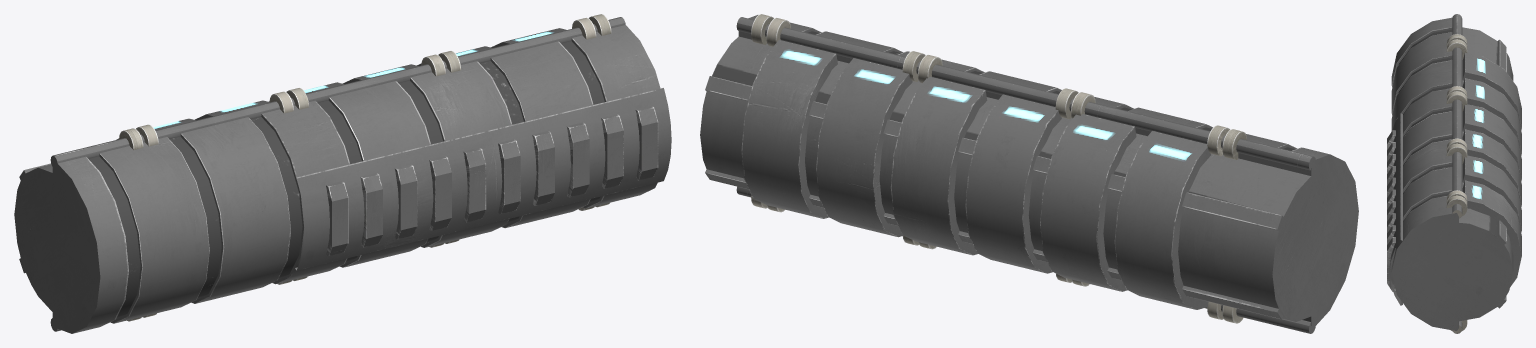
File: grip_18_r_a.glb
3 views of the same model, side by side, from view 1: azimuth 30°, elevation 25°; view 2: azimuth 150°, elevation 25°; view 3: azimuth 270°, elevation 25° (orthographic). The views are drawn at different scales.
Parts seen in each view (by area): view 1: grip_18_r_a_lod0; view 2: grip_18_r_a_lod0; view 3: grip_18_r_a_lod0.
Boxes of the visible parts, bbox=[...] form: grip_18_r_a_lod0: bbox=[14, 14, 671, 333]; grip_18_r_a_lod0: bbox=[700, 14, 1358, 333]; grip_18_r_a_lod0: bbox=[1387, 14, 1521, 333].
Size of what is drawn, in the model's own units: 0.1042 by 0.033 by 0.0302.
Materials: 1 (1 with a texture image).
